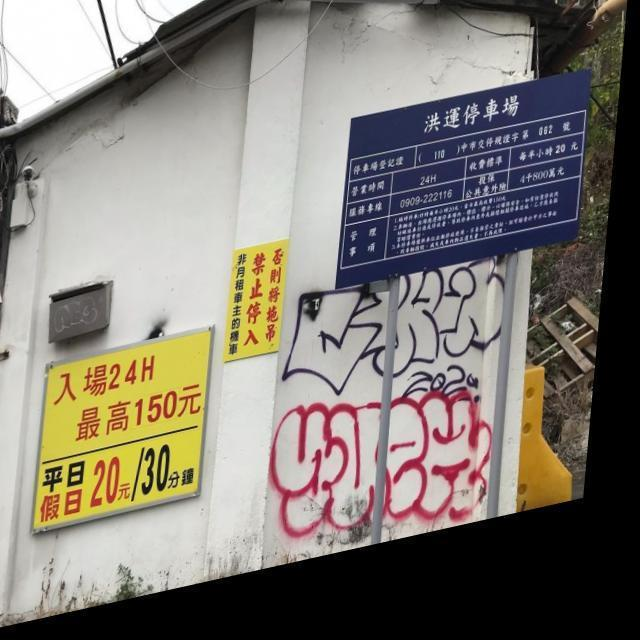nonspitting: (268, 388, 494, 535), (280, 256, 506, 399)
